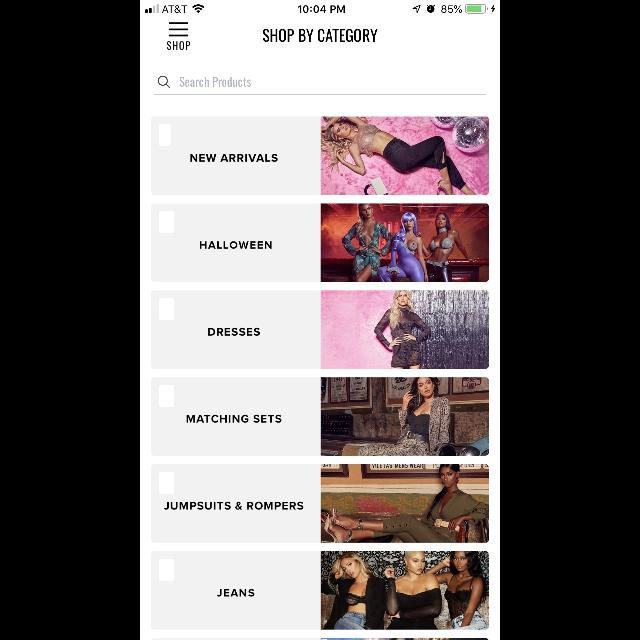icon: (170, 23, 188, 37), (157, 75, 170, 88)
image: (321, 551, 489, 629), (321, 464, 489, 542), (321, 378, 489, 456), (321, 291, 489, 369), (321, 204, 489, 282), (322, 117, 488, 195)
input: (154, 76, 486, 95)
text: (262, 30, 378, 42), (164, 502, 304, 510), (186, 415, 282, 423), (180, 77, 252, 87), (190, 154, 278, 162), (200, 242, 272, 248), (208, 328, 260, 336), (218, 589, 255, 597), (168, 41, 190, 50)
uppertaskbar: (140, 0, 500, 14)
